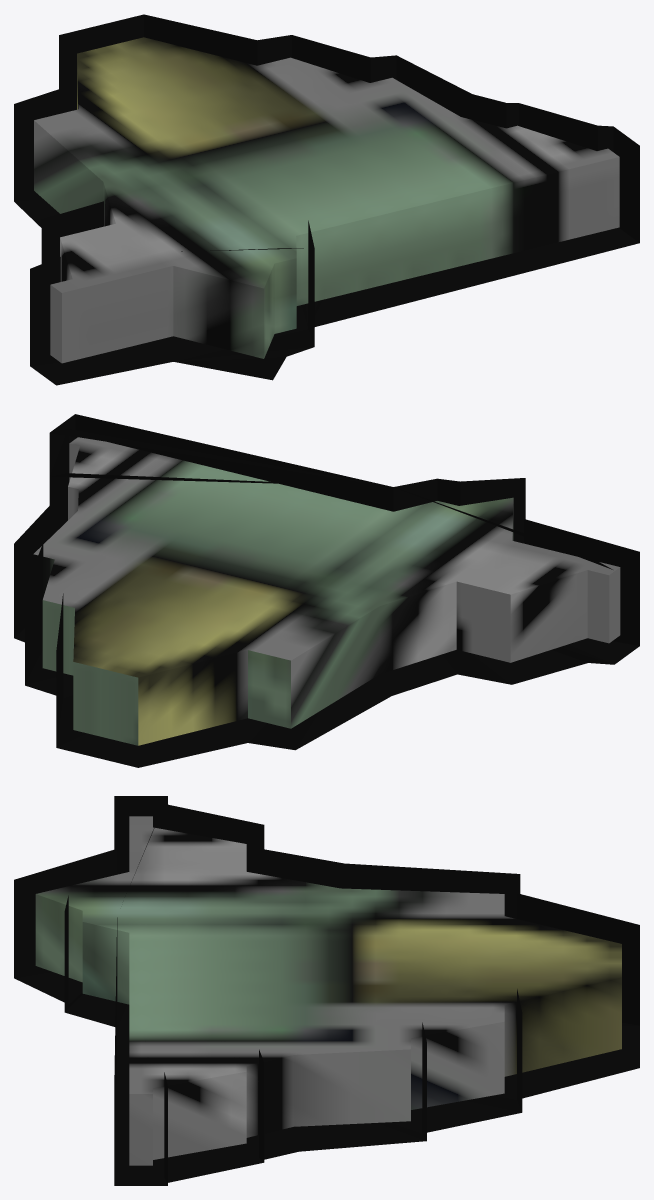
File: Building_TrapIED_AntigrainWarhead_Things_Building_Security_IEDAntigrainWarhead.glb
3 renders of one model, top to bottom at view 1: azimuth 30°, elevation 25°; view 2: azimuth 150°, elevation 25°; view 3: azimuth 270°, elevation 25°, orthographic. The views are drawn at different scales.
Parts seen in each view (by area): view 1: Body, Outline; view 2: Body, Outline; view 3: Body, Outline.
Part boxes in pixels (x1,y1,x2,y2): Body: (34, 37, 619, 363); Outline: (14, 14, 639, 385); Body: (33, 437, 620, 745); Outline: (14, 414, 639, 767); Body: (35, 816, 621, 1165); Outline: (14, 796, 639, 1185).
Size of the model in its own units: 0.8173 by 0.1477 by 0.7447.
Materials: 2 (1 with a texture image).
